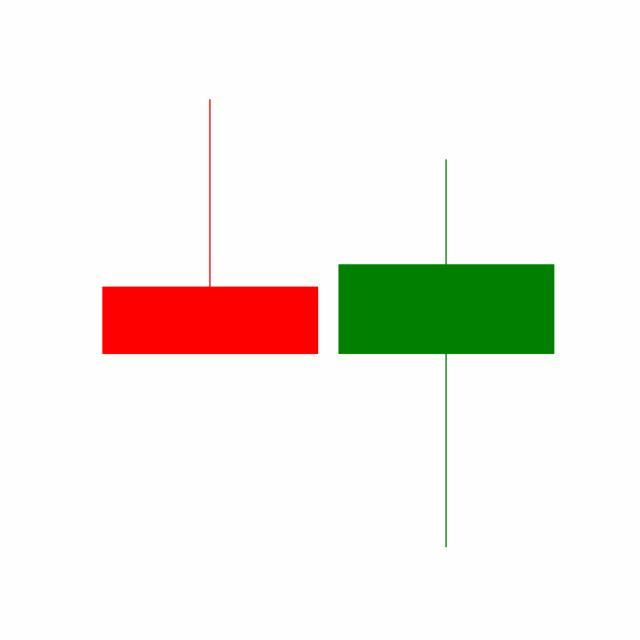Spinning Top: (328, 156, 566, 553)
